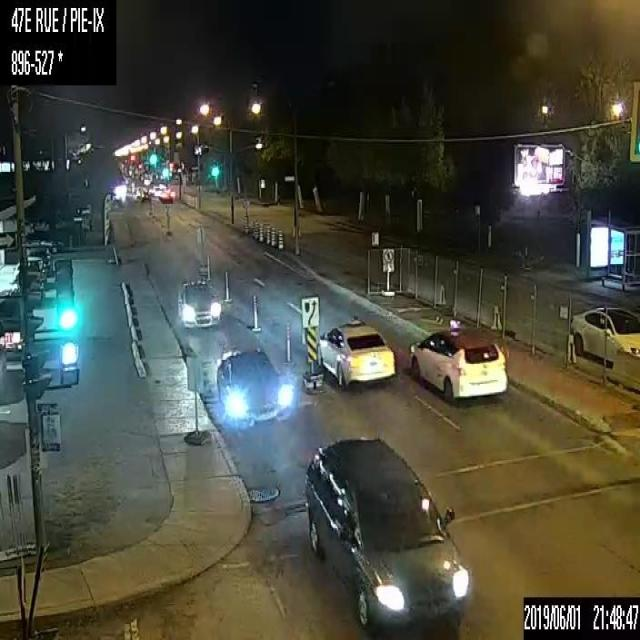construction: (285, 319, 290, 361), (252, 294, 257, 329), (270, 225, 276, 246), (225, 265, 228, 299), (258, 222, 263, 242), (243, 215, 248, 232), (266, 223, 270, 244), (278, 229, 282, 249), (254, 220, 258, 238)
vehicle: (302, 432, 470, 632), (406, 325, 510, 400), (214, 346, 294, 426), (316, 319, 398, 388), (566, 304, 639, 363), (0, 286, 34, 358), (176, 278, 223, 329), (13, 272, 45, 304), (28, 244, 52, 276), (17, 255, 46, 277), (0, 318, 5, 394)
